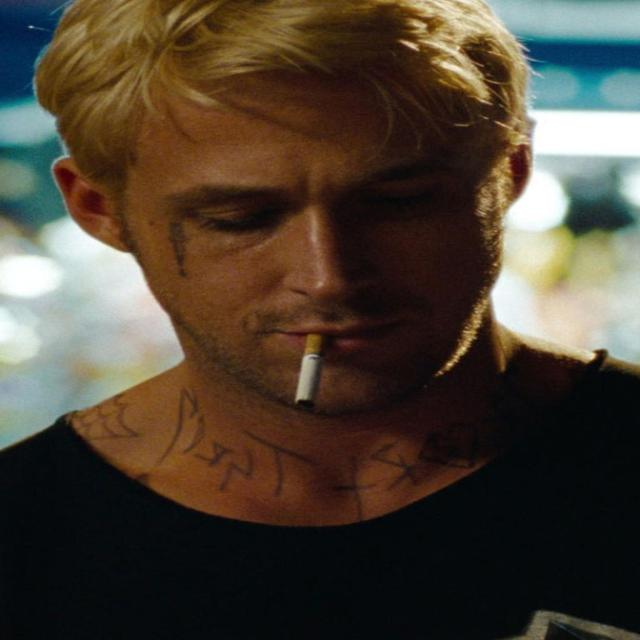smoking: (32, 0, 554, 435)
